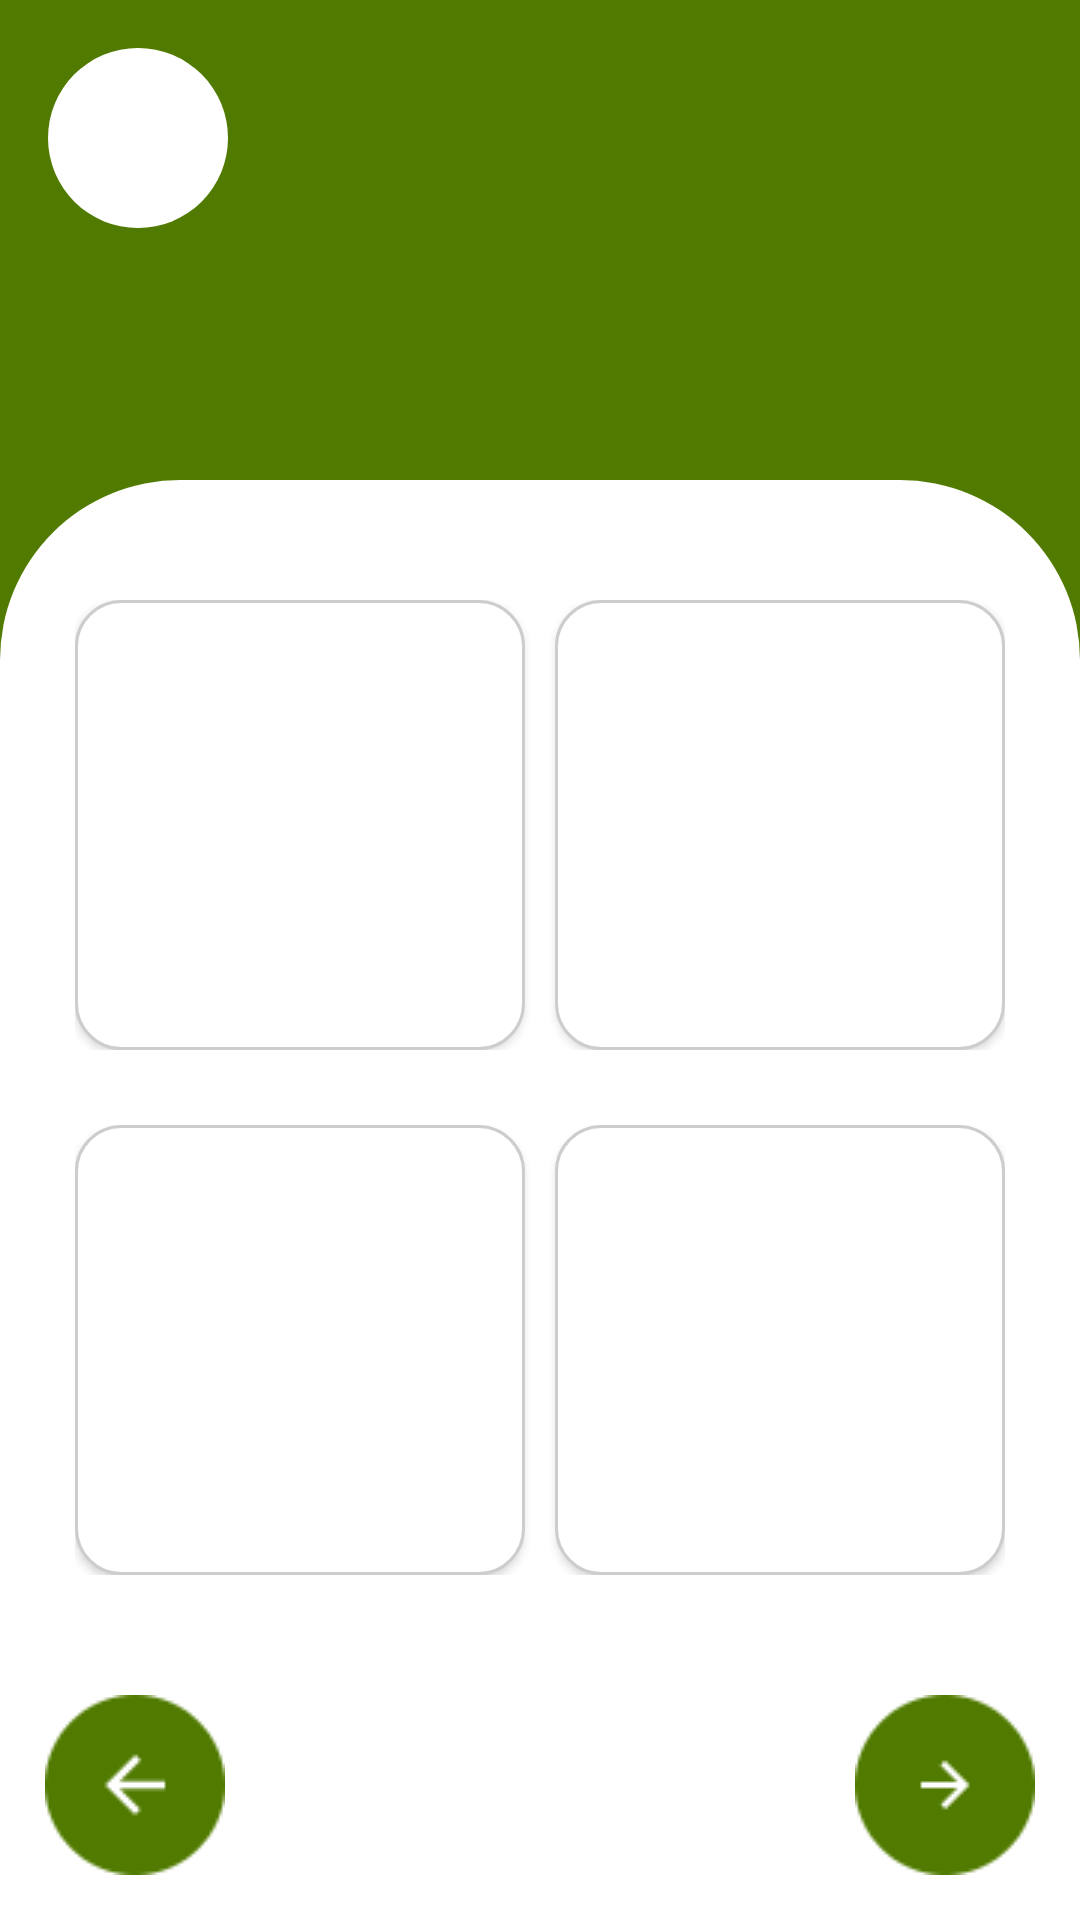

Icons on this 1080 x 1920 Android screen, each with the point to tap as point (x, y):
left: point (135, 1785)
right: point (945, 1785)
